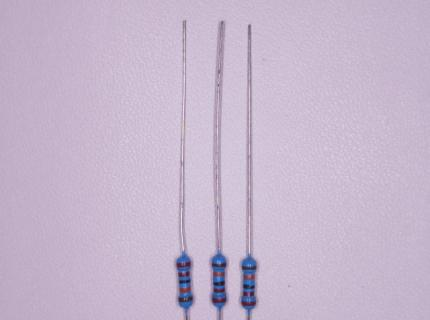Black band: (243, 284, 255, 289), (213, 281, 225, 286), (179, 279, 191, 284)
Brown band: (178, 296, 193, 302), (242, 265, 257, 270), (212, 262, 227, 267)
Orange band: (179, 287, 191, 293), (243, 275, 255, 280), (213, 272, 225, 276)
Red band: (176, 261, 191, 267), (212, 297, 227, 303), (178, 271, 190, 278), (243, 291, 255, 297), (242, 301, 256, 306), (214, 288, 225, 293)
